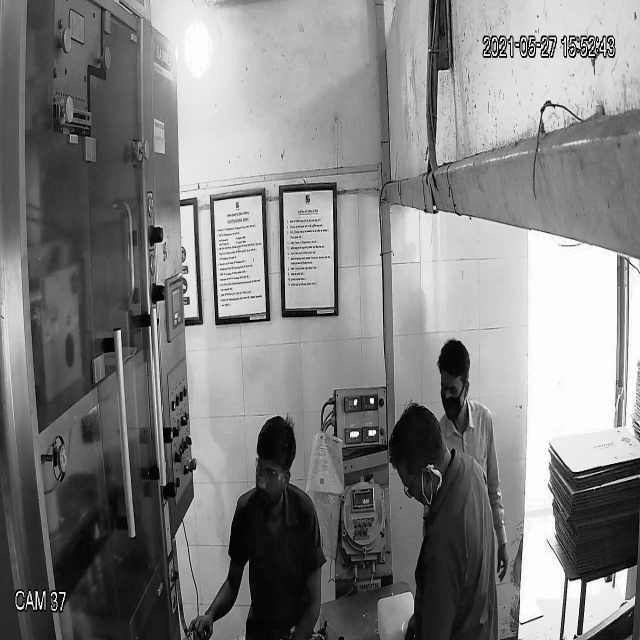Gafas: (251, 454, 291, 490)
Sin_gafas: (433, 374, 468, 399)
